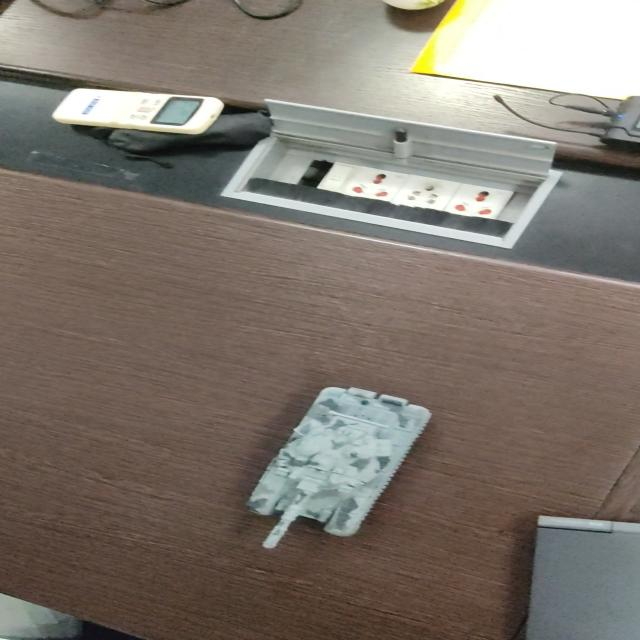tank: (243, 386, 430, 550)
